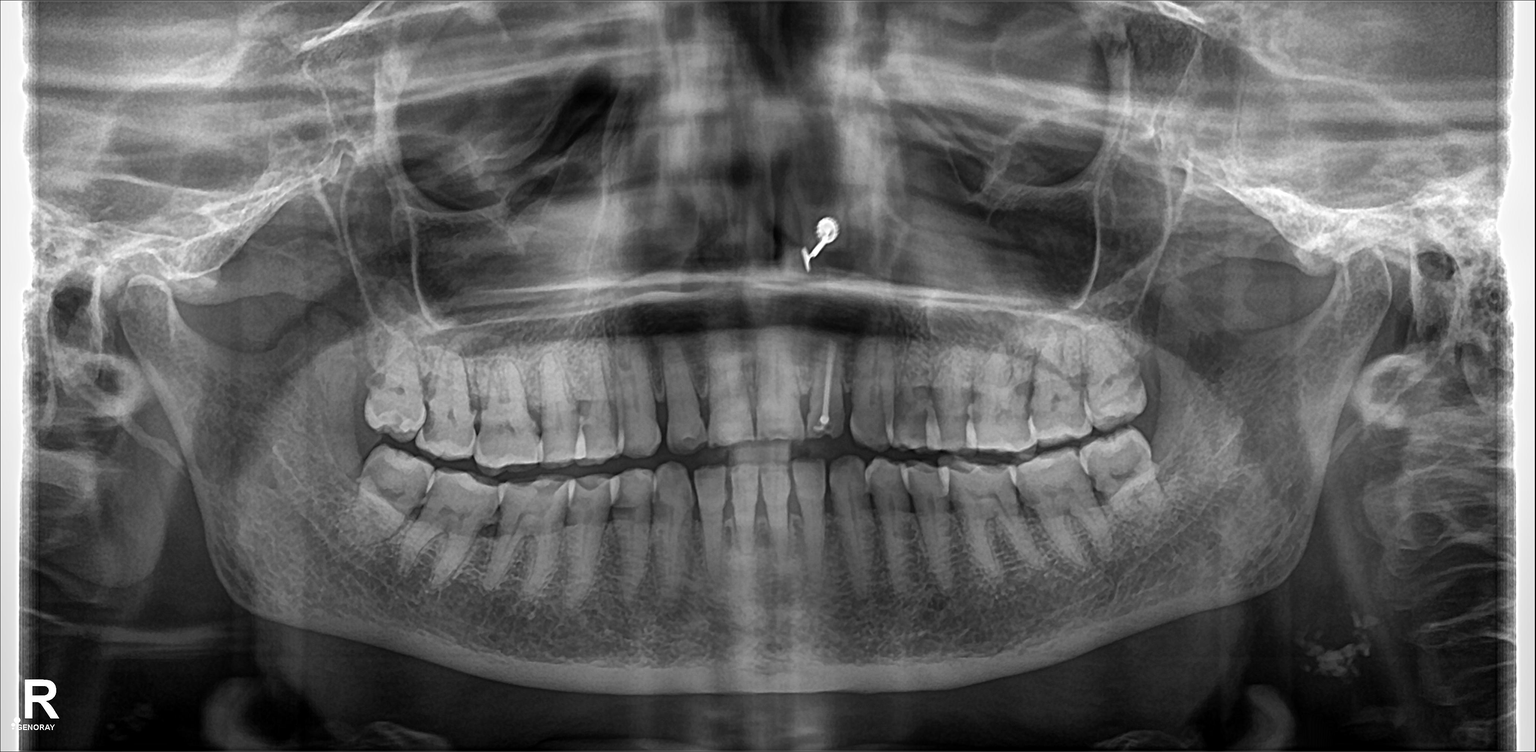Endodontically Treated Tooth: (808, 329, 840, 432)
Impacted Third Molar: (1080, 441, 1171, 520)
